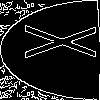X: (25, 25, 100, 58)
